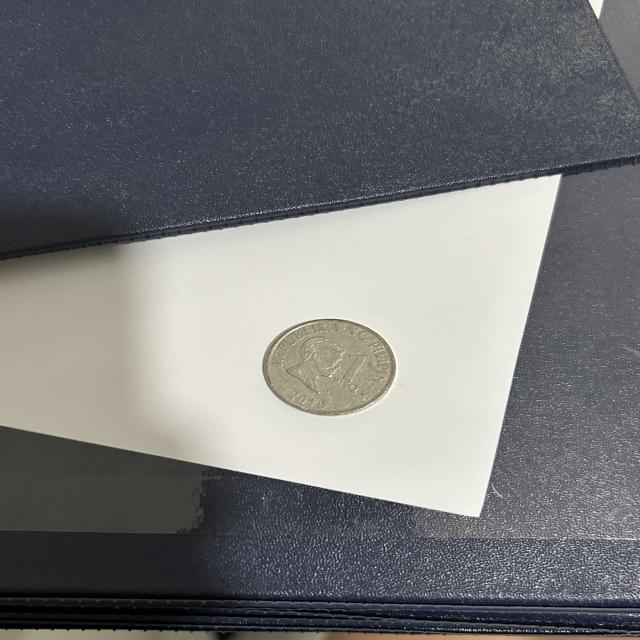1_Old_Front: (328, 349, 373, 394)
